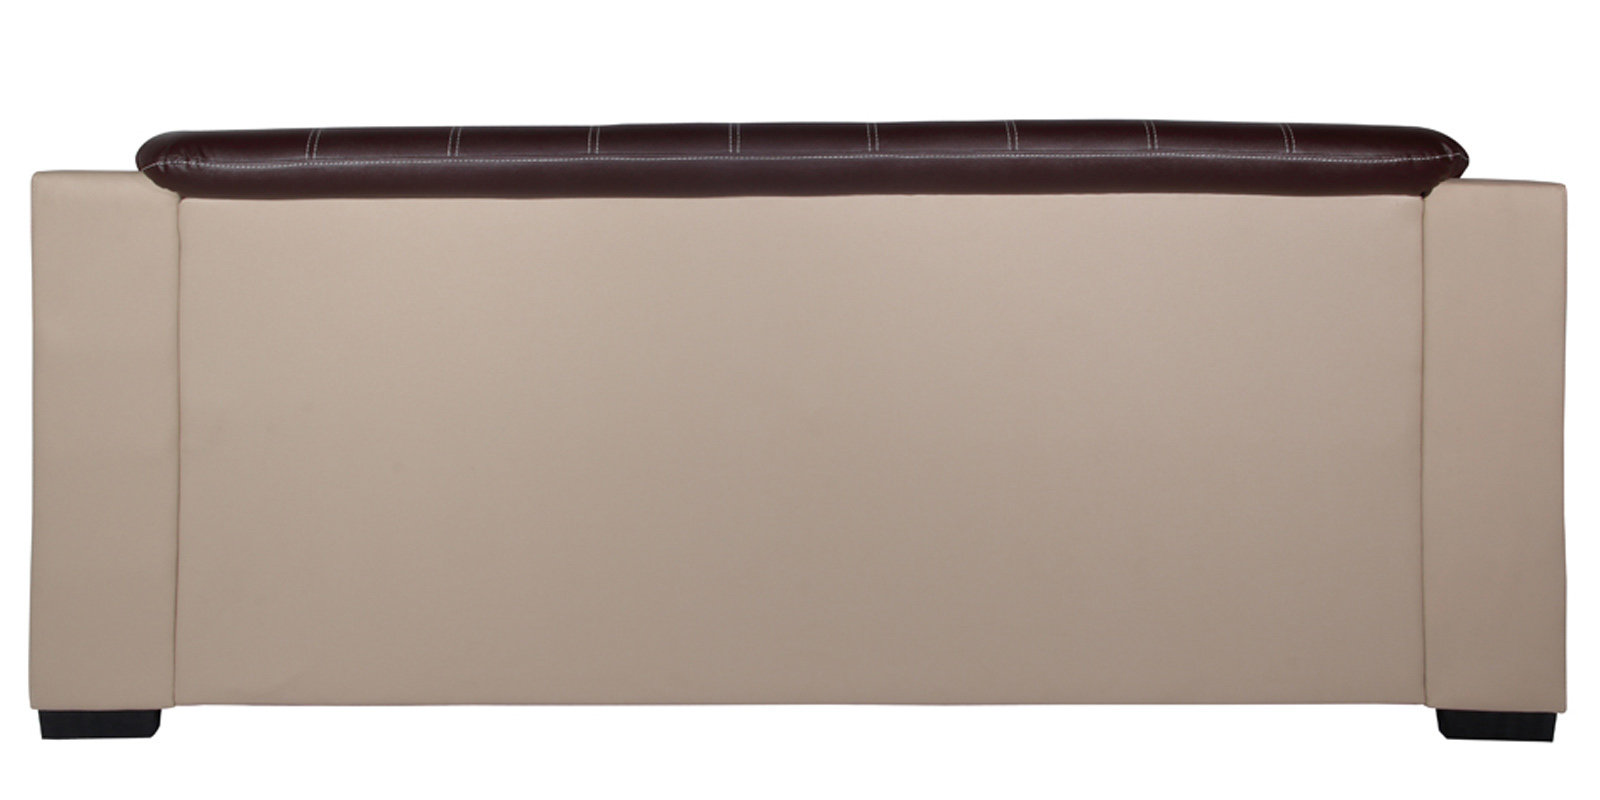Bella Three Seater Sofa in Brown Leatherette by Furniture Mind: (7, 129, 1600, 767)
